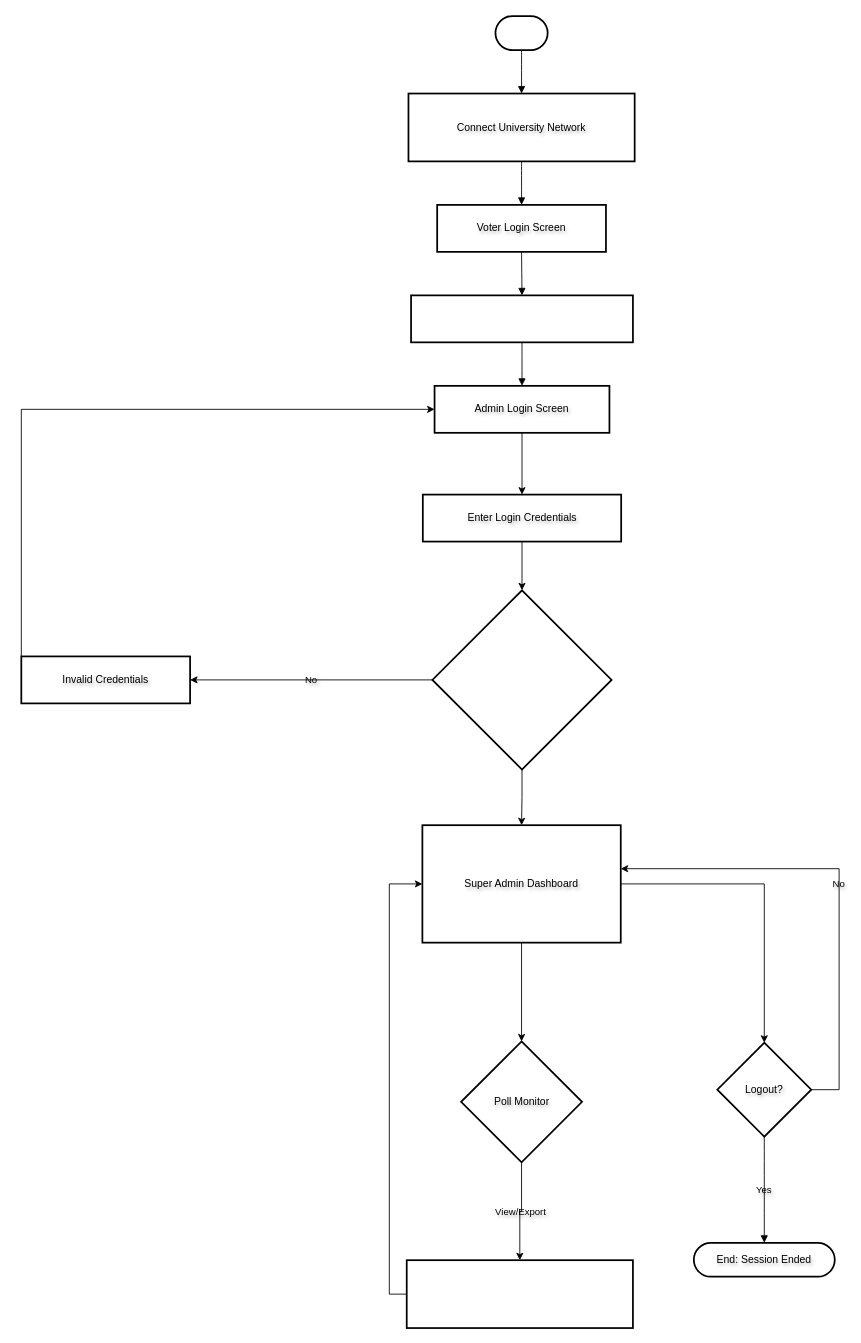
Some shapes in this 861 by 1343 pixel diagram are drawn without their labels. Each missing label, with the centre of its shape:
Authentication Valid?: point 521,679
Hidden Admin Login Button: point 521,318
Monitor Poll Status & Blockchain: point 519,1293
Start: point 521,32
